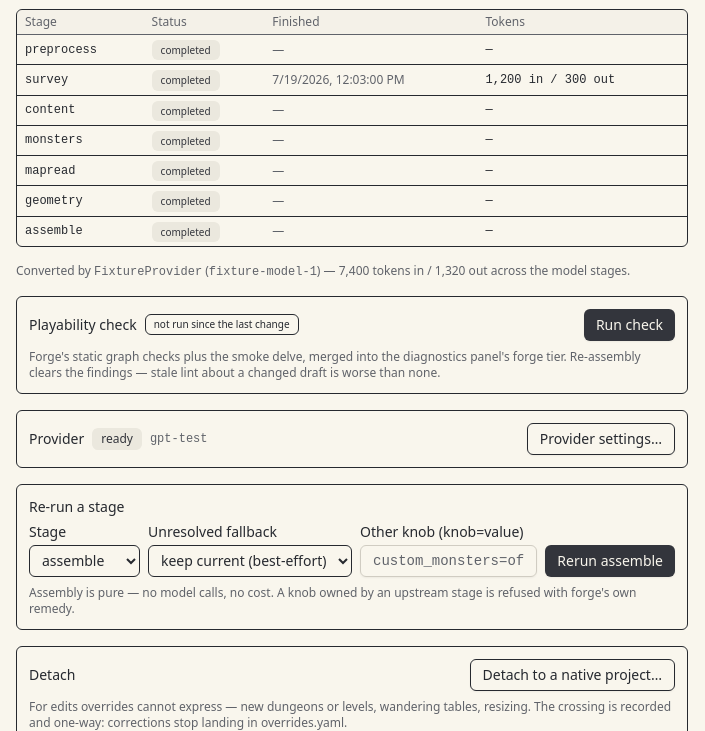
PipelinePanel › a model stage creates a bound session, runs it, and shows the busy state
The image size is (705, 731).
Step 1. Select "monsters" in the dropdown labelled "Stage" → point(84, 561), box [29,545,140,577]
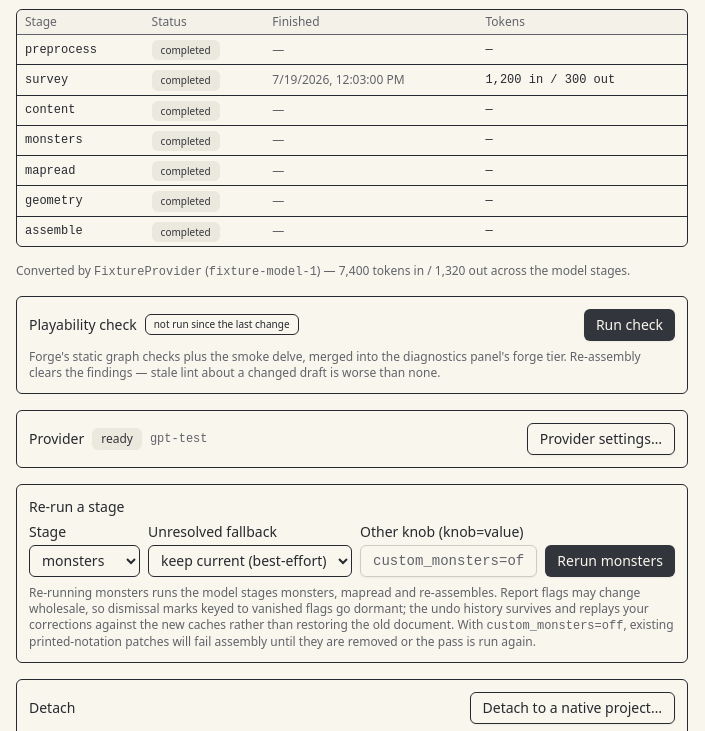
Expected: the element with test id "rerun-consequences" shows "model stages monsters", [29,585,675,650]
Expected: the element with test id "rerun-consequences" shows "undo history survives", [29,584,649,633]
Step 2. Click the button "Rerun monsters" → point(610, 561), box [545,545,675,577]
(page scrolled)
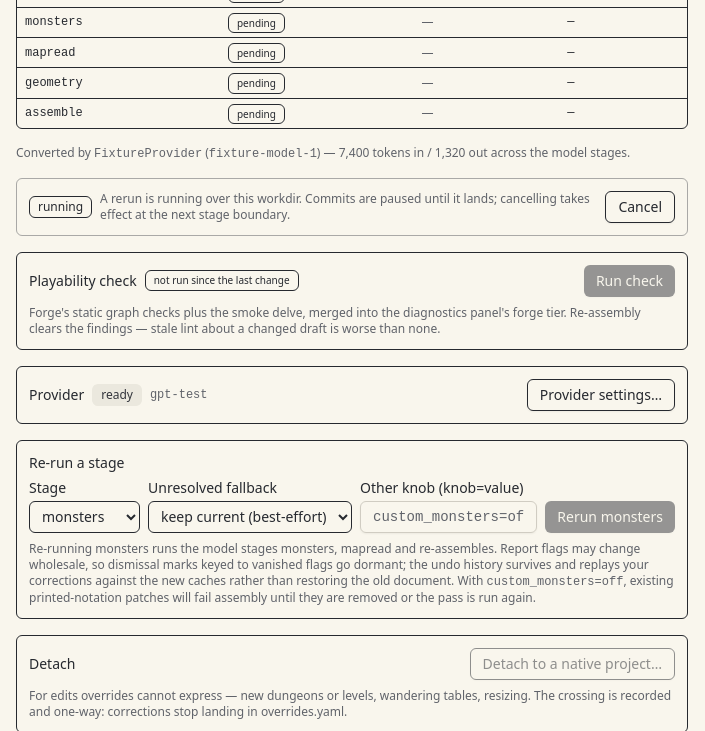
Expected: the element with test id "pipeline-busy" is shown, [16,178,688,236]
Expected: the button "Run check" is disabled, [584,265,675,297]
Expected: the button "Detach to a native project…" is disabled, [470,648,675,680]
